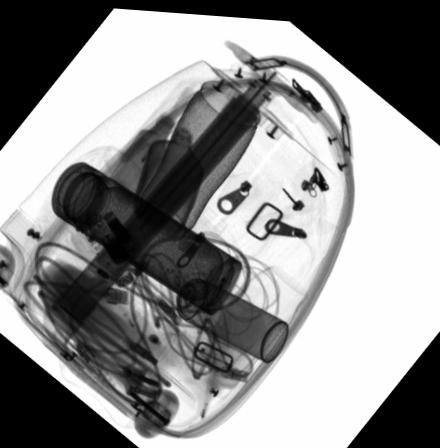Sprayer: (151, 264, 287, 358)
